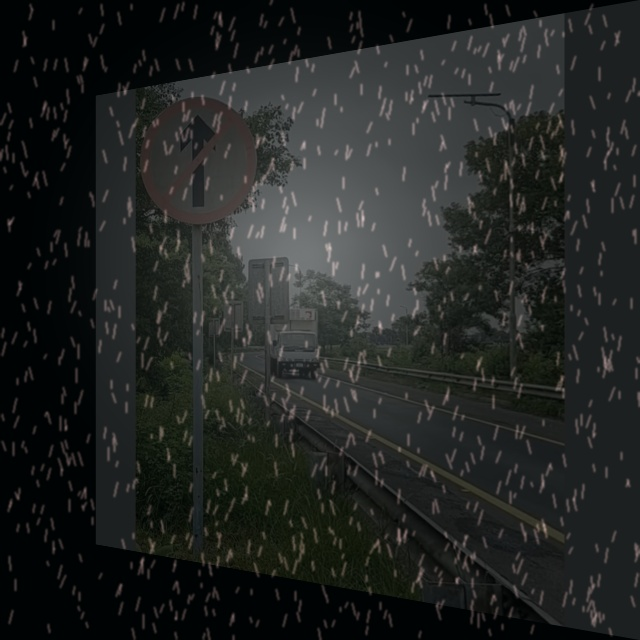No_Entry: (141, 88, 258, 225)
